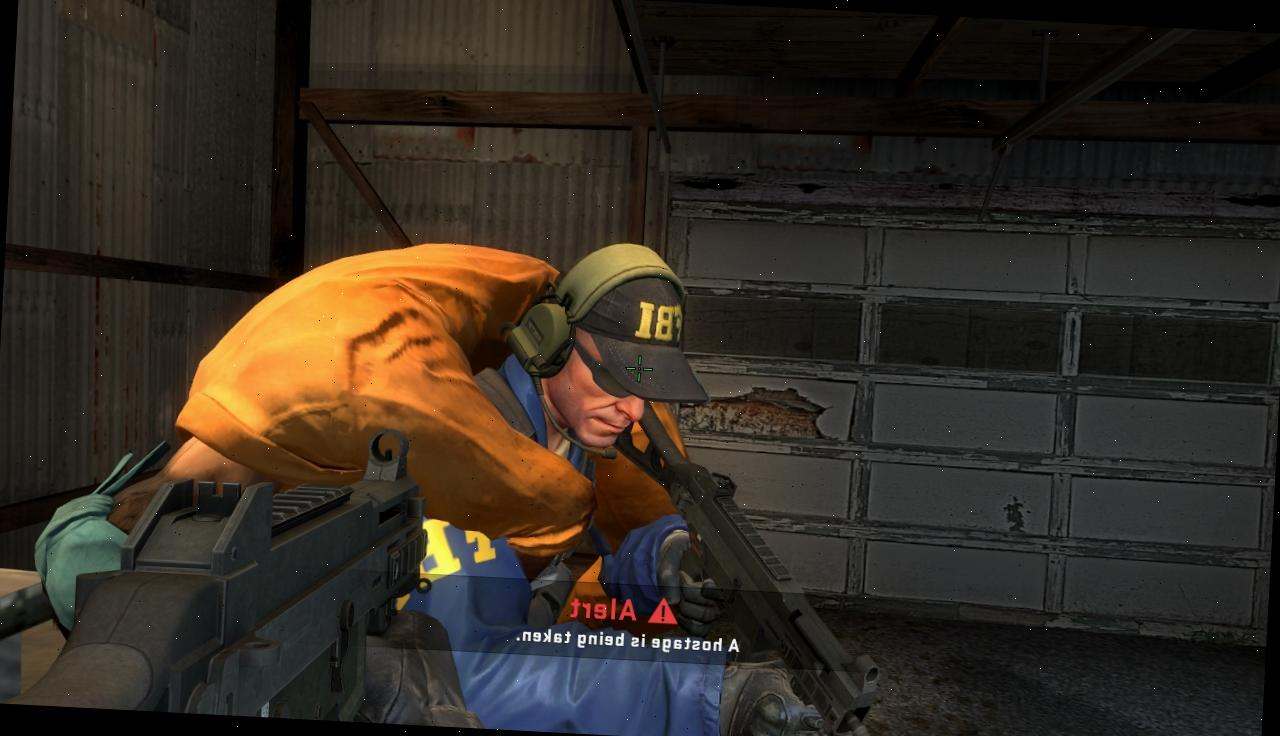ct: (421, 235, 828, 736)
cthead: (539, 242, 701, 452)
rifle: (0, 409, 434, 725)
